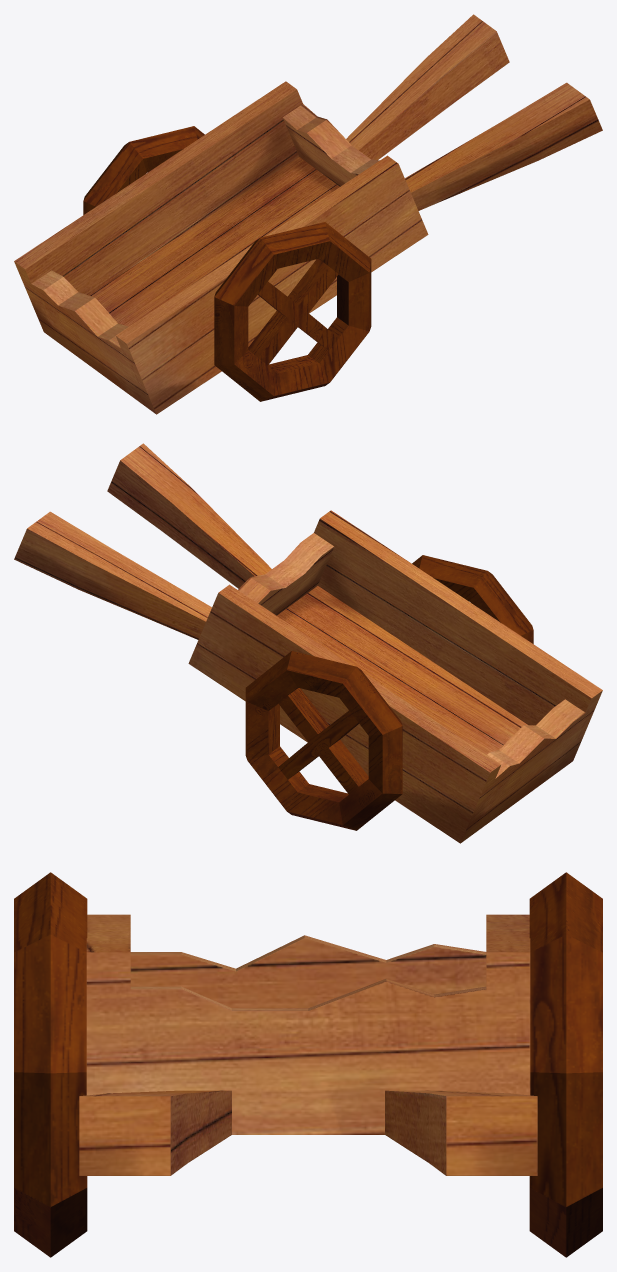
Rendered from WheelBarrow.fbx.
The picture shows the model from 3 angles, top to bottom: view 1: azimuth 30°, elevation 25°; view 2: azimuth 150°, elevation 25°; view 3: azimuth 270°, elevation 25°; orthographic projection. The views are drawn at different scales.
Parts seen in each view (by area): view 1: WheelBarrow; view 2: WheelBarrow; view 3: WheelBarrow.
Boxes of the visible parts, x1,y1,x2,y2 form: WheelBarrow: (14,14,602,414); WheelBarrow: (14,443,602,843); WheelBarrow: (14,872,602,1257).
Size of the model in its own units: 2.43 by 1.05 by 1.33.
